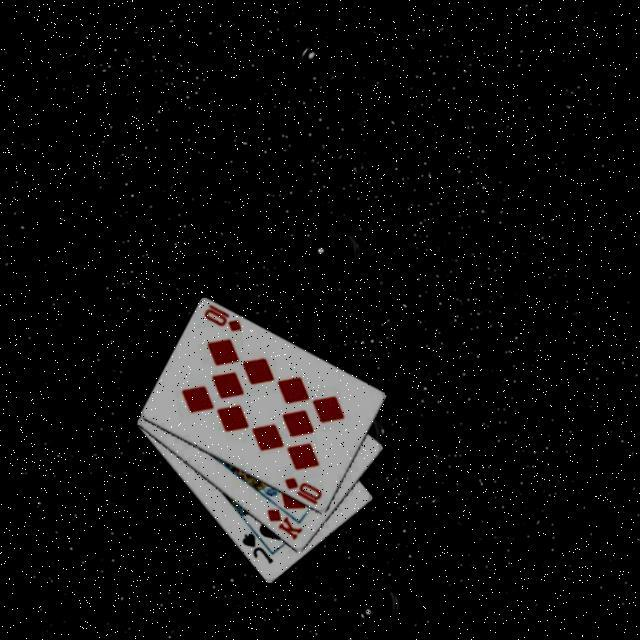10D: (199, 299, 245, 340), (280, 473, 325, 513)
JS: (237, 529, 276, 571)
KD: (262, 503, 306, 548)
